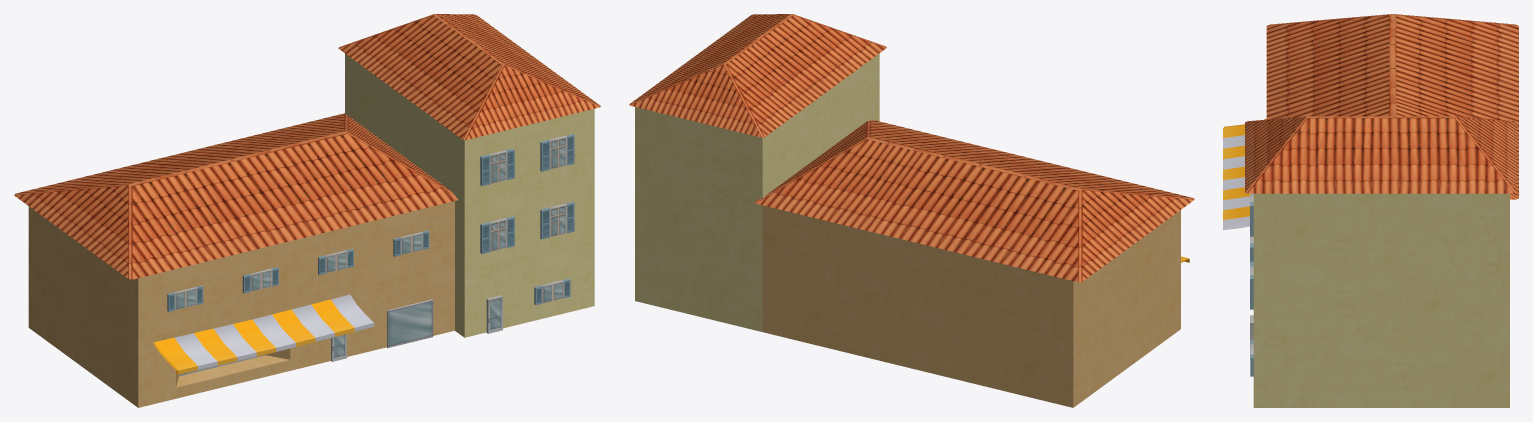
Rendered from Houses_03.fbx.
3 views of the same model, side by side, from view 1: azimuth 30°, elevation 25°; view 2: azimuth 150°, elevation 25°; view 3: azimuth 270°, elevation 25° (orthographic). The views are drawn at different scales.
Parts seen in each view (by area): view 1: Houses_03; view 2: Houses_03; view 3: Houses_03.
Boxes of the visible parts, bbox=[...] form: Houses_03: bbox=[14, 14, 600, 407]; Houses_03: bbox=[629, 14, 1194, 407]; Houses_03: bbox=[1223, 14, 1518, 407].
Bounding box in the file's own units: 10.41 × 5.14 × 5.37.
